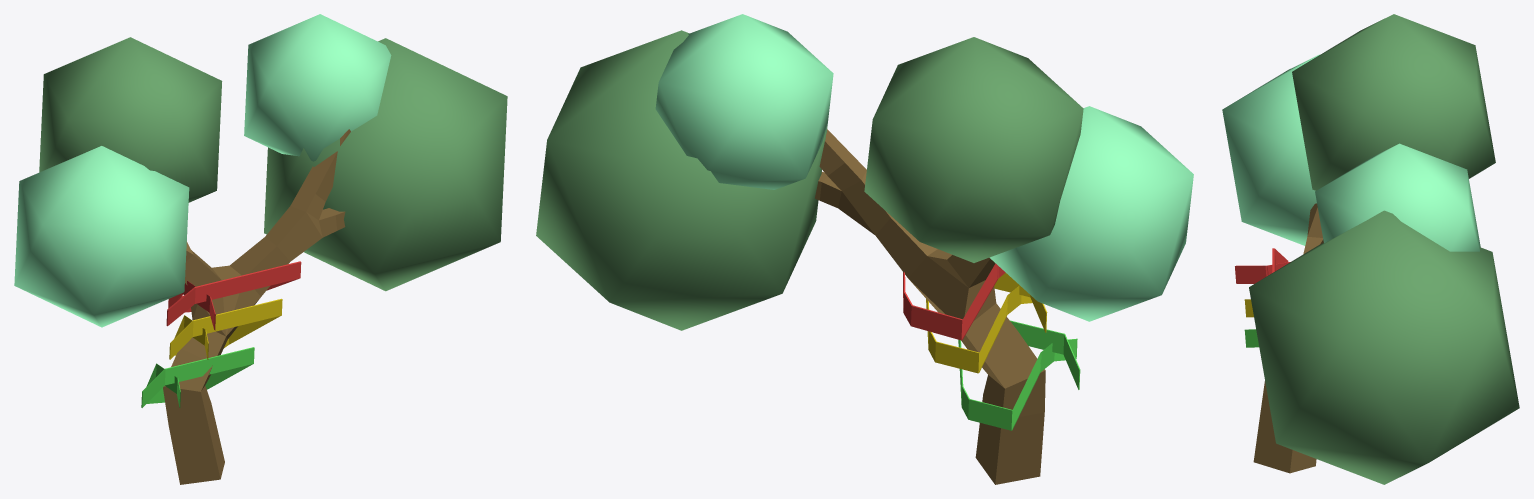
Rendered from tree_building10.glb.
3 views of the same model, side by side, from view 1: azimuth 30°, elevation 25°; view 2: azimuth 150°, elevation 25°; view 3: azimuth 270°, elevation 25° (orthographic). The views are drawn at different scales.
Parts seen in each view (by area): view 1: ทรงกลม Ico.003, ทรงกลม Ico, ทรงกลม Ico.001, ทรงกลม Ico.002, Cube, ลูกบาศก์.001, ลูกบาศก์.002, ลูกบาศก์; view 2: ทรงกลม Ico.003, ทรงกลม Ico.001, ทรงกลม Ico, ทรงกลม Ico.002, Cube, ลูกบาศก์.002, ลูกบาศก์, ลูกบาศก์.001; view 3: ทรงกลม Ico.003, ทรงกลม Ico.001, ทรงกลม Ico.002, ทรงกลม Ico, Cube, ลูกบาศก์.001.
Boxes of the visible parts, left/top/right/bottom form: ทรงกลม Ico.003: left=264, top=38, right=507, bottom=291; ทรงกลม Ico: left=14, top=146, right=189, bottom=327; ทรงกลม Ico.001: left=39, top=37, right=222, bottom=202; ทรงกลม Ico.002: left=244, top=14, right=391, bottom=161; Cube: left=163, top=129, right=350, bottom=484; ลูกบาศก์.001: left=166, top=261, right=301, bottom=330; ลูกบาศก์.002: left=141, top=347, right=254, bottom=407; ลูกบาศก์: left=169, top=298, right=282, bottom=359; ทรงกลม Ico.003: left=536, top=30, right=826, bottom=330; ทรงกลม Ico.001: left=864, top=37, right=1083, bottom=262; ทรงกลม Ico: left=989, top=106, right=1193, bottom=321; ทรงกลม Ico.002: left=655, top=14, right=833, bottom=189; Cube: left=815, top=129, right=1045, bottom=484; ลูกบาศก์.002: left=958, top=320, right=1080, bottom=430; ลูกบาศก์: left=926, top=273, right=1047, bottom=373; ลูกบาศก์.001: left=903, top=263, right=1005, bottom=340; ทรงกลม Ico.003: left=1249, top=210, right=1519, bottom=484; ทรงกลม Ico.001: left=1292, top=14, right=1495, bottom=190; ทรงกลม Ico.002: left=1315, top=143, right=1480, bottom=251; ทรงกลม Ico: left=1222, top=54, right=1319, bottom=245; Cube: left=1253, top=203, right=1323, bottom=473; ลูกบาศก์.001: left=1235, top=248, right=1290, bottom=283.
Bounding box in the file's own units: 5.8 × 4.61 × 2.81.
